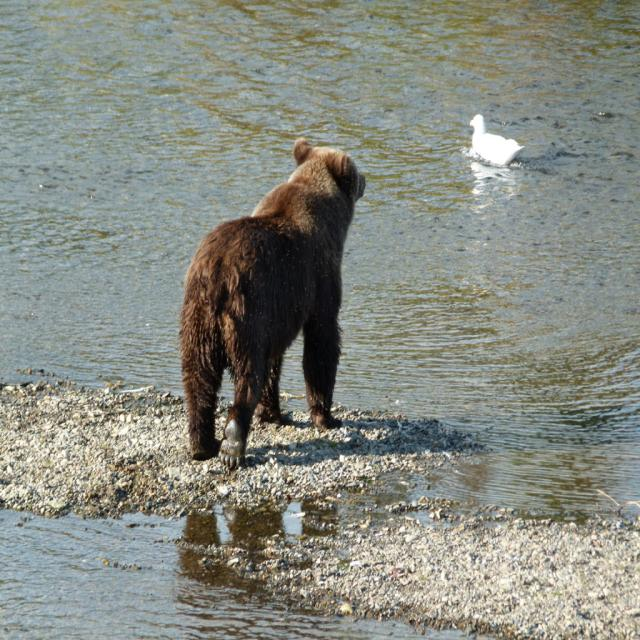Cheetahs: (178, 134, 369, 472)
